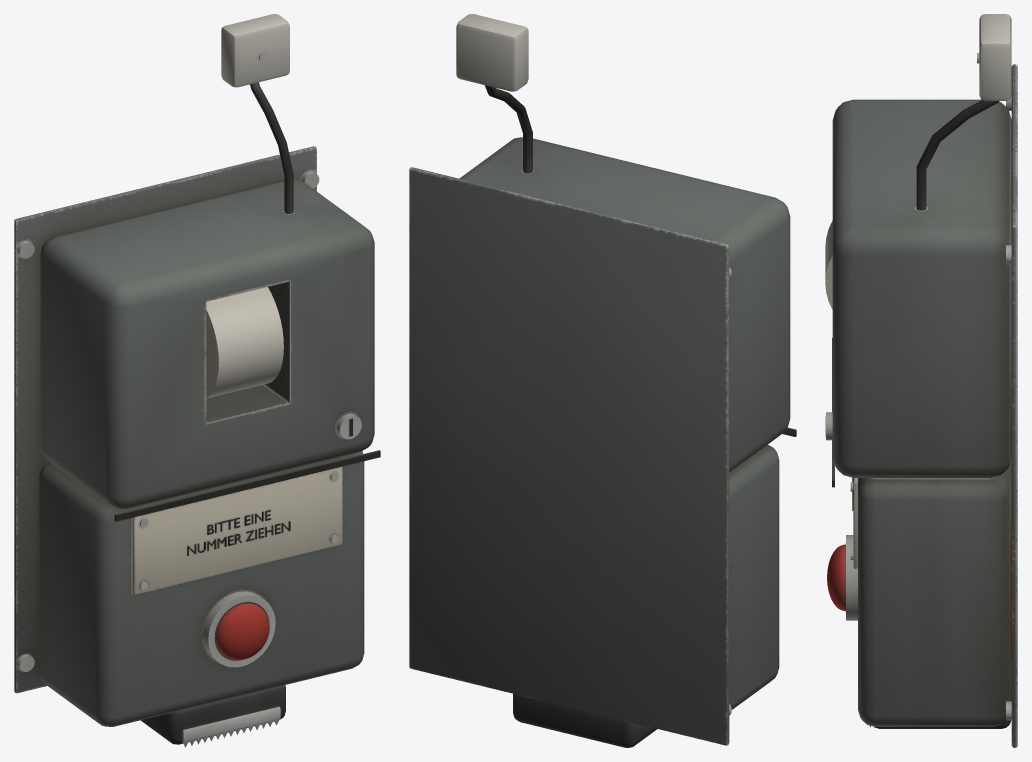
File: nummernspender.glb
The picture shows the model from 3 angles, left to right: view 1: azimuth 30°, elevation 25°; view 2: azimuth 150°, elevation 25°; view 3: azimuth 270°, elevation 25°; orthographic projection. The views are drawn at different scales.
Parts seen in each view (by area): view 1: korpus, knopf; view 2: korpus; view 3: korpus, knopf.
Part boxes in pixels (<box>): korpus: <box>14,14,380,747</box>; knopf: <box>216,603,269,660</box>; korpus: <box>409,14,796,747</box>; korpus: <box>825,14,1017,747</box>; knopf: <box>827,544,845,610</box>.
Size of the model in its own units: 0.26 by 0.5365 by 0.13.
1 material, 1 textured.
